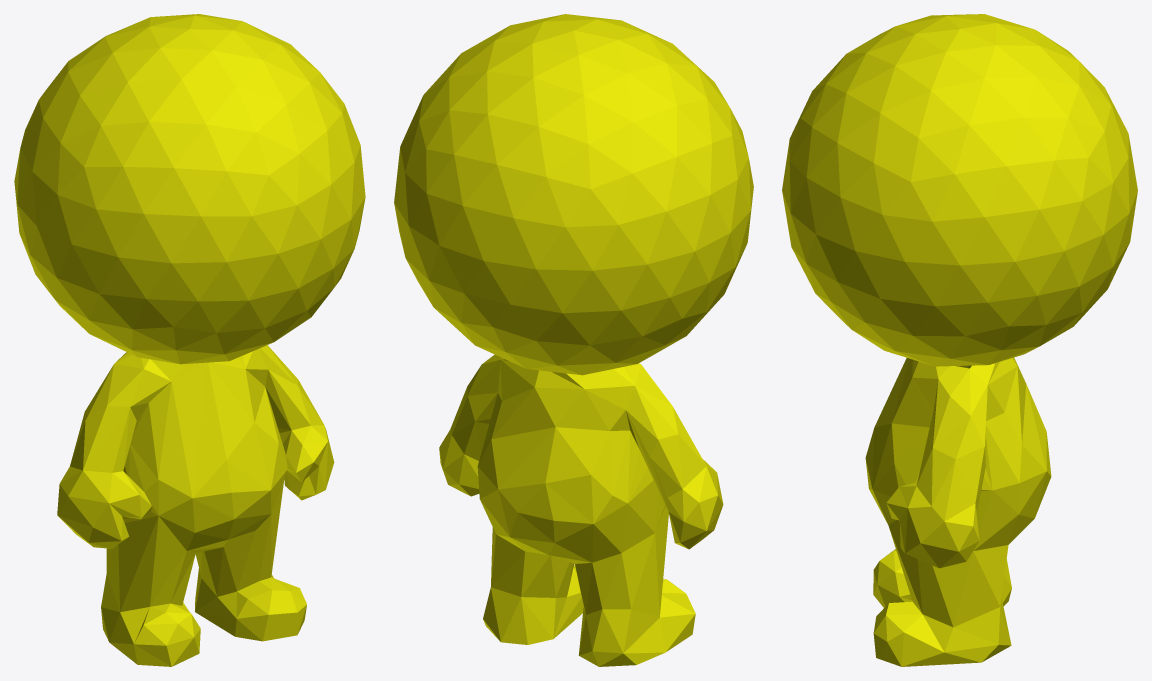
File: human.glb
3 renders of one model, left to right at view 1: azimuth 30°, elevation 25°; view 2: azimuth 150°, elevation 25°; view 3: azimuth 270°, elevation 25°, orthographic. The views are drawn at different scales.
Parts seen in each view (by area): view 1: geometry_0; view 2: geometry_0; view 3: geometry_0.
Boxes of the visible parts, <box> form: geometry_0: <box>14,14,365,666</box>; geometry_0: <box>394,14,753,666</box>; geometry_0: <box>782,14,1137,666</box>.
Bounding box in the file's own units: 0.54 × 0.9988 × 0.54.
